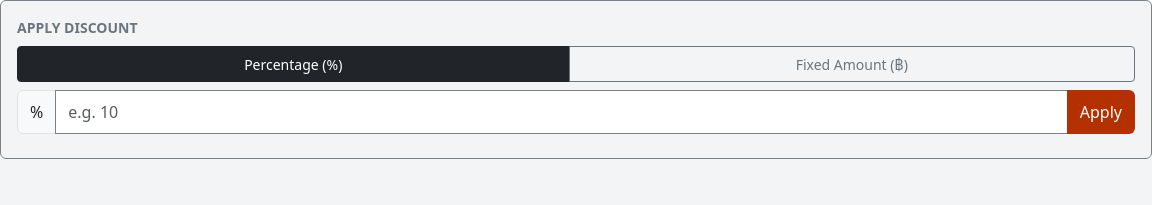
Feature-G: DiscountForm & Order Discount Client Interface › STS-G-14: Displays inline error banner when percentage input is out of range (-5% or 150%)
Type "-5" into the number field with test id "discount-input" at (562, 112), box [55,90,1068,134]
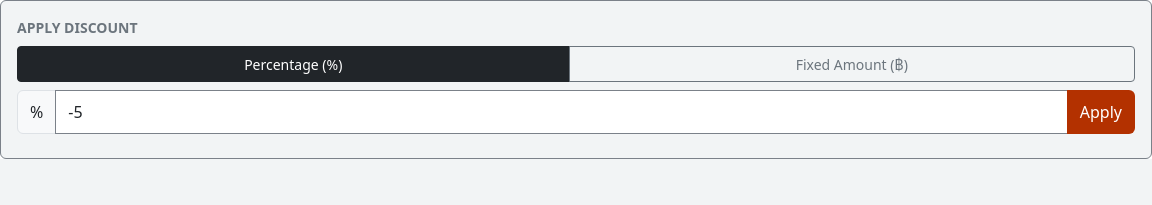
Click the button with test id "apply-discount-btn" at (1101, 112), box [1067,90,1135,134]
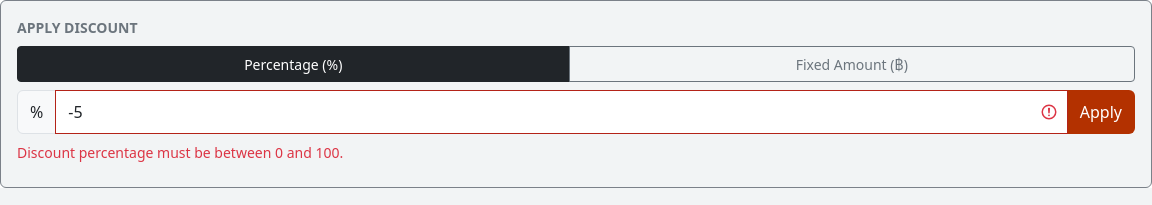
Expected: the message with test id "discount-error-banner" shows "Discount percentage must be between 0 and 100", [17,143,343,162]
